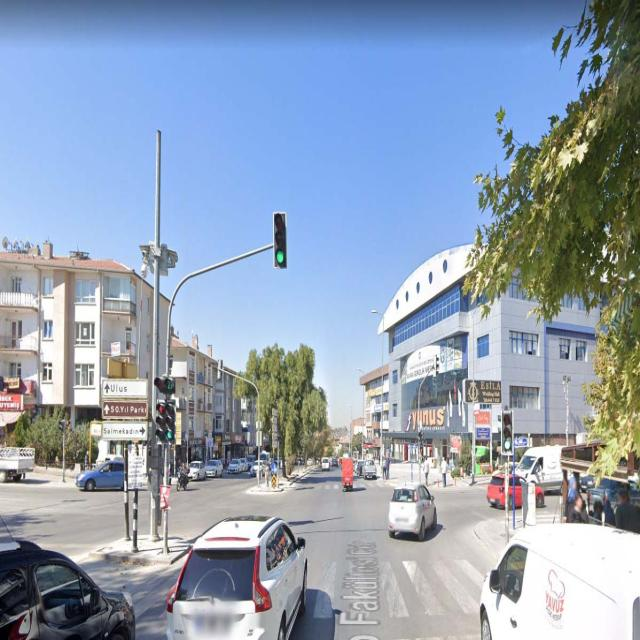kirmizi: (155, 400, 165, 443)
yesil: (274, 213, 286, 266), (502, 408, 514, 454), (165, 401, 177, 440)
